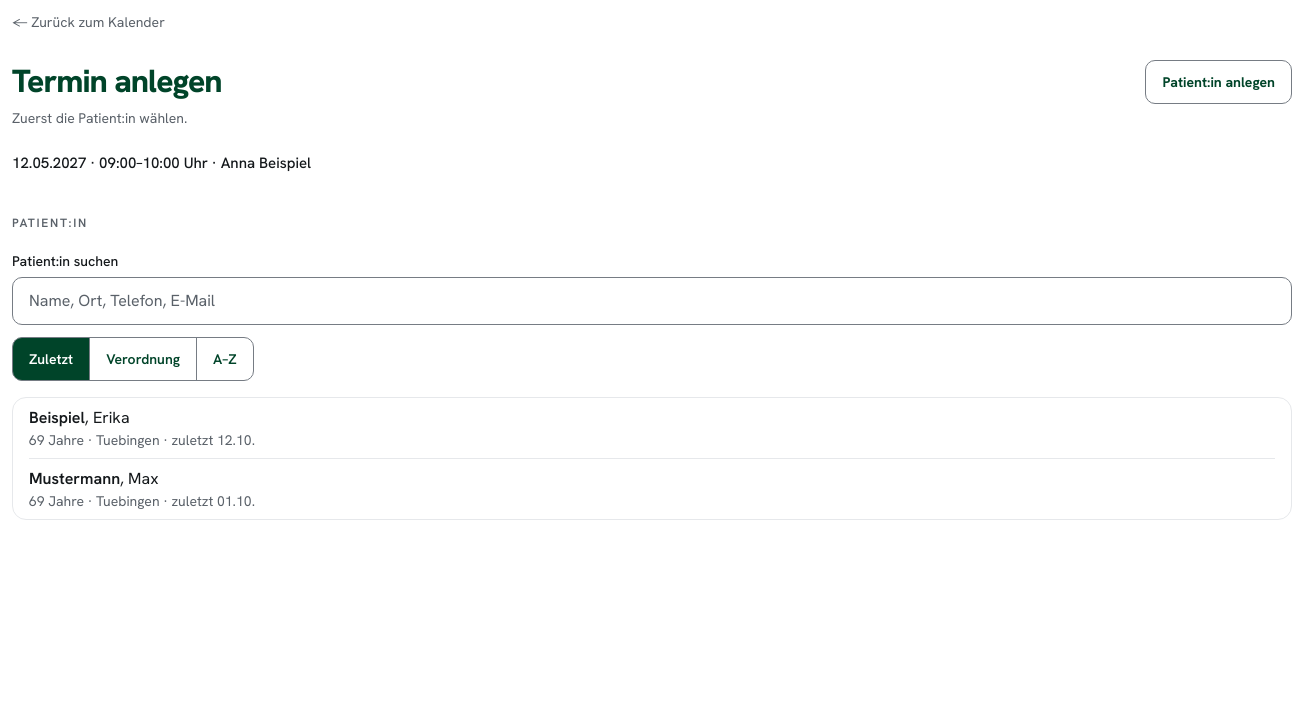
Scenario: NewAppointmentStartPage › bietet „Patient:in anlegen“ auch unter „Keine Treffer“ an
expect the link "Mustermann, Max 69 Jahre · Tuebingen · zuletzt 01.10." is shown: met, box left=29, top=468, right=255, bottom=510
In the search field labelled "Patient:in suchen": (652, 300) left=12, top=276, right=1292, bottom=324, type "Neumann"
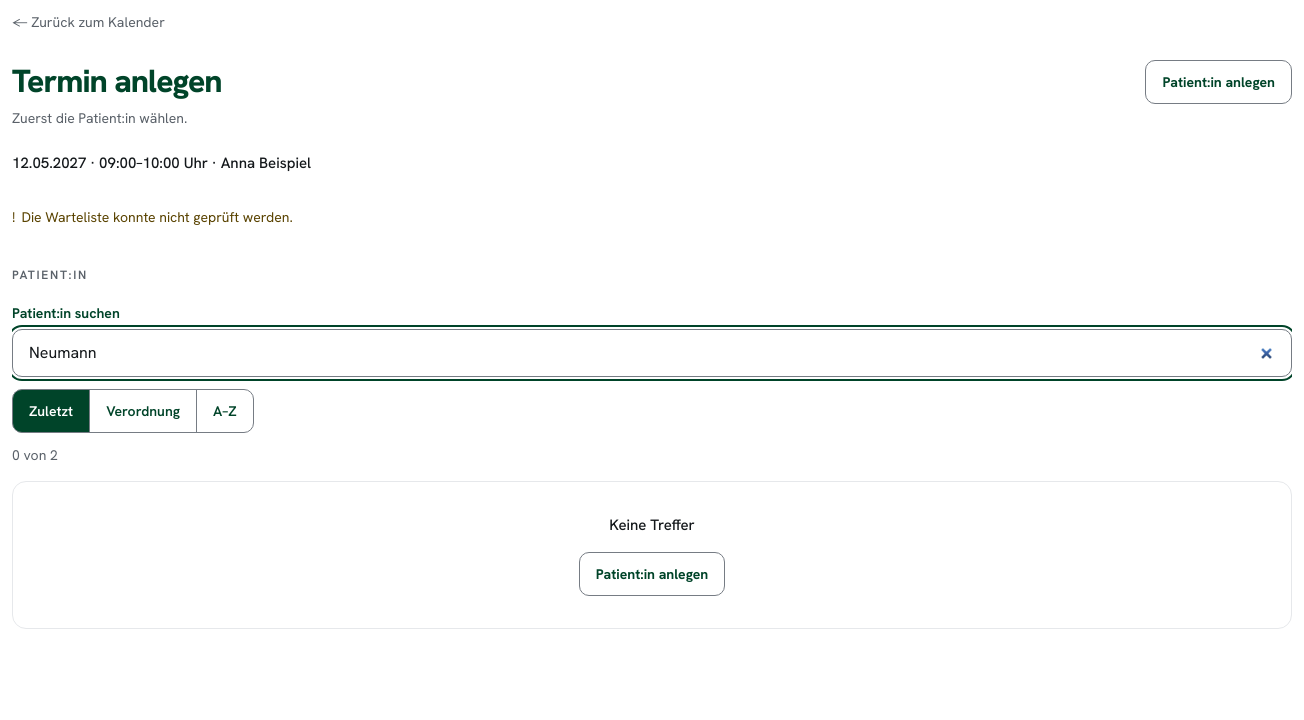
expect the text "Keine Treffer" is shown: met, box left=609, top=514, right=695, bottom=534
expect the number of links "Patient:in anlegen" is 2: met, box left=1146, top=60, right=1292, bottom=104; left=579, top=552, right=725, bottom=596
